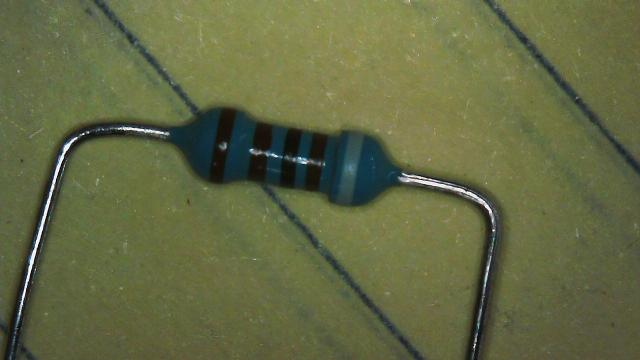black: (280, 128, 302, 187)
brown: (209, 108, 236, 182), (248, 122, 272, 180), (304, 133, 328, 190)
resistor: (170, 91, 404, 225)
white: (332, 133, 364, 204)
